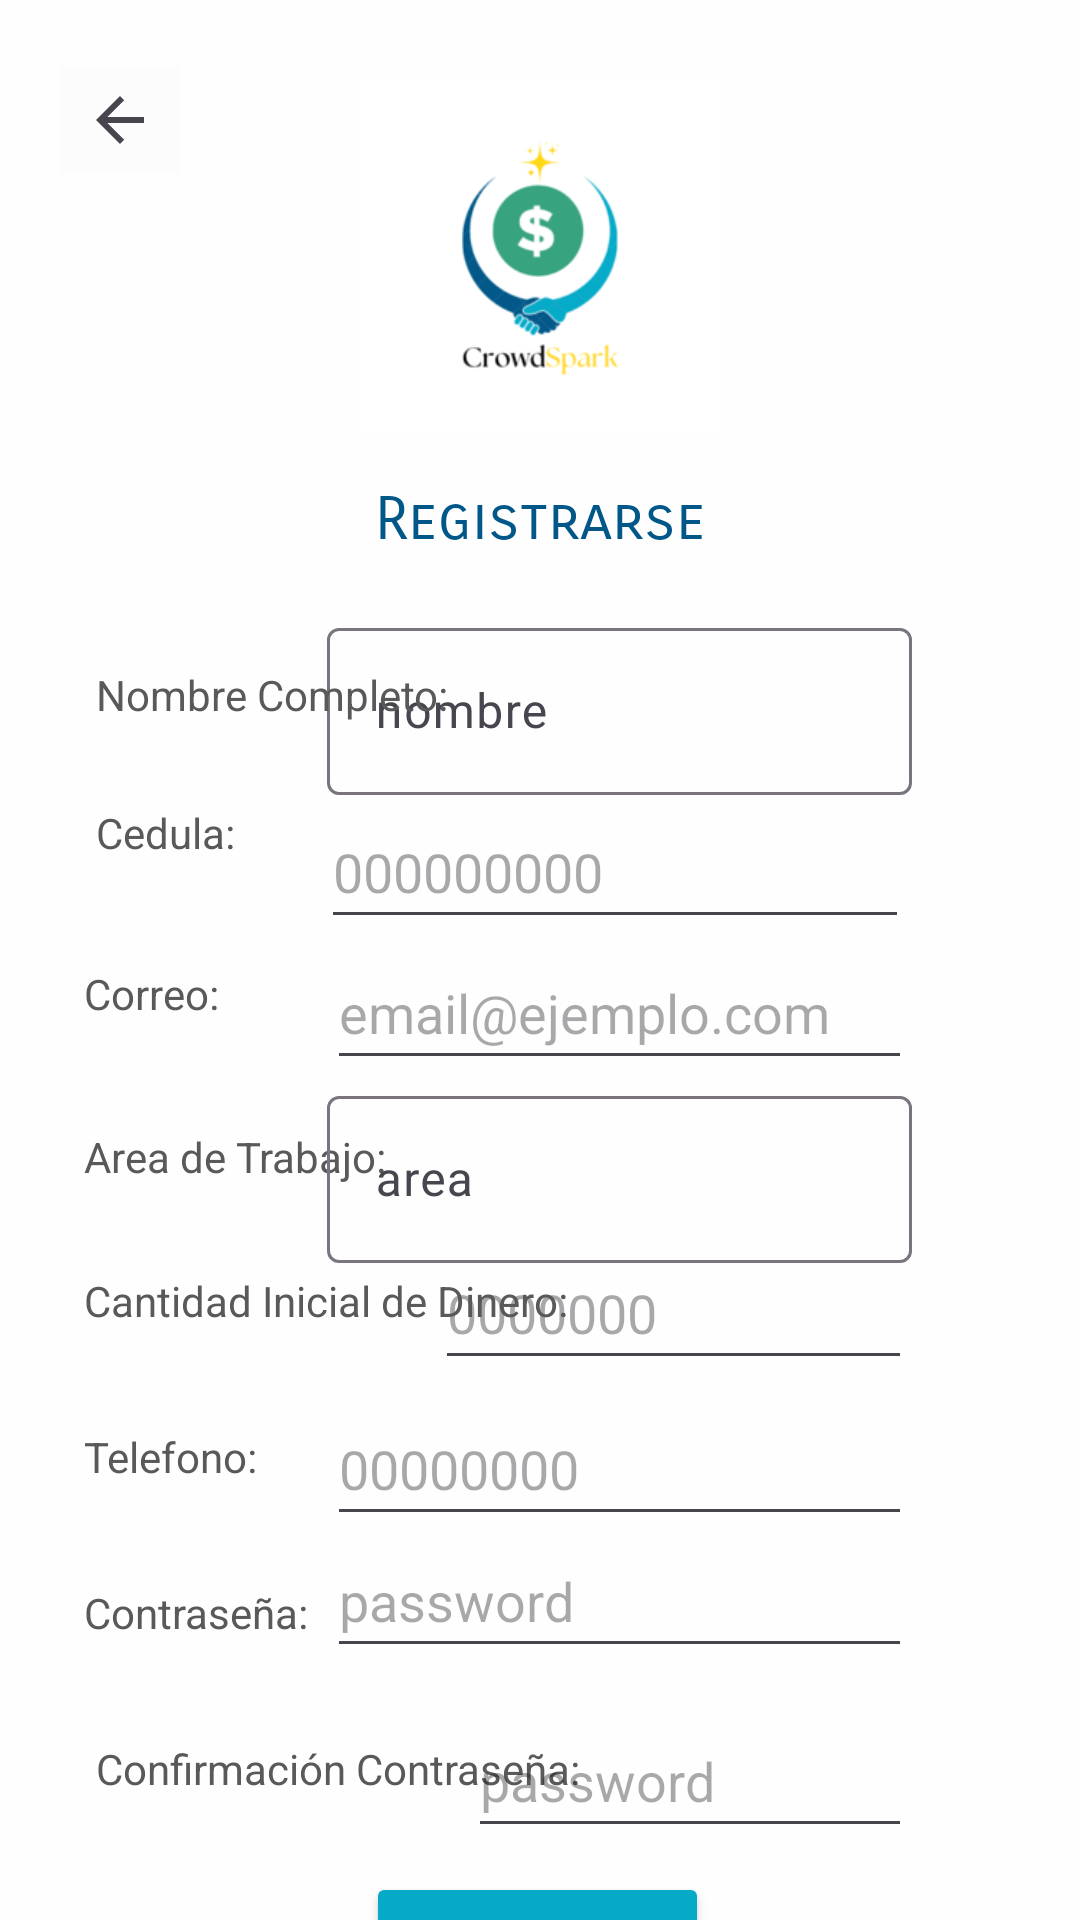

Icon bounding boxes for this 1080w x 1920h phone screenshot, format (x1, y1, x2, y2):
Go back: (96, 96, 144, 144)
